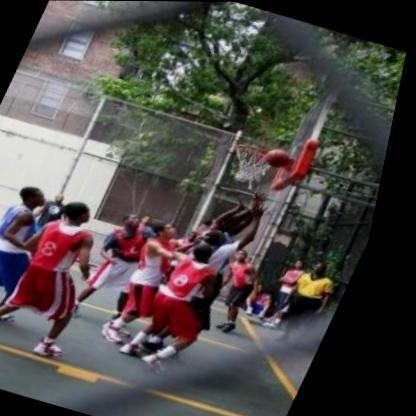basketball: (263, 142, 306, 173)
